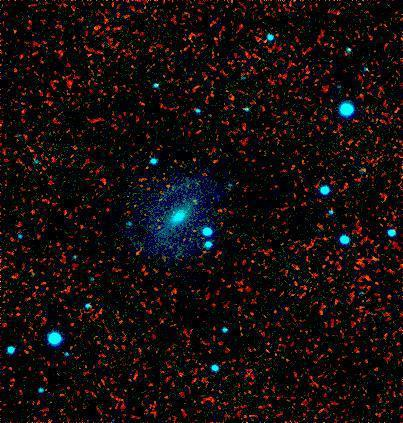star: (180, 187, 210, 217)
